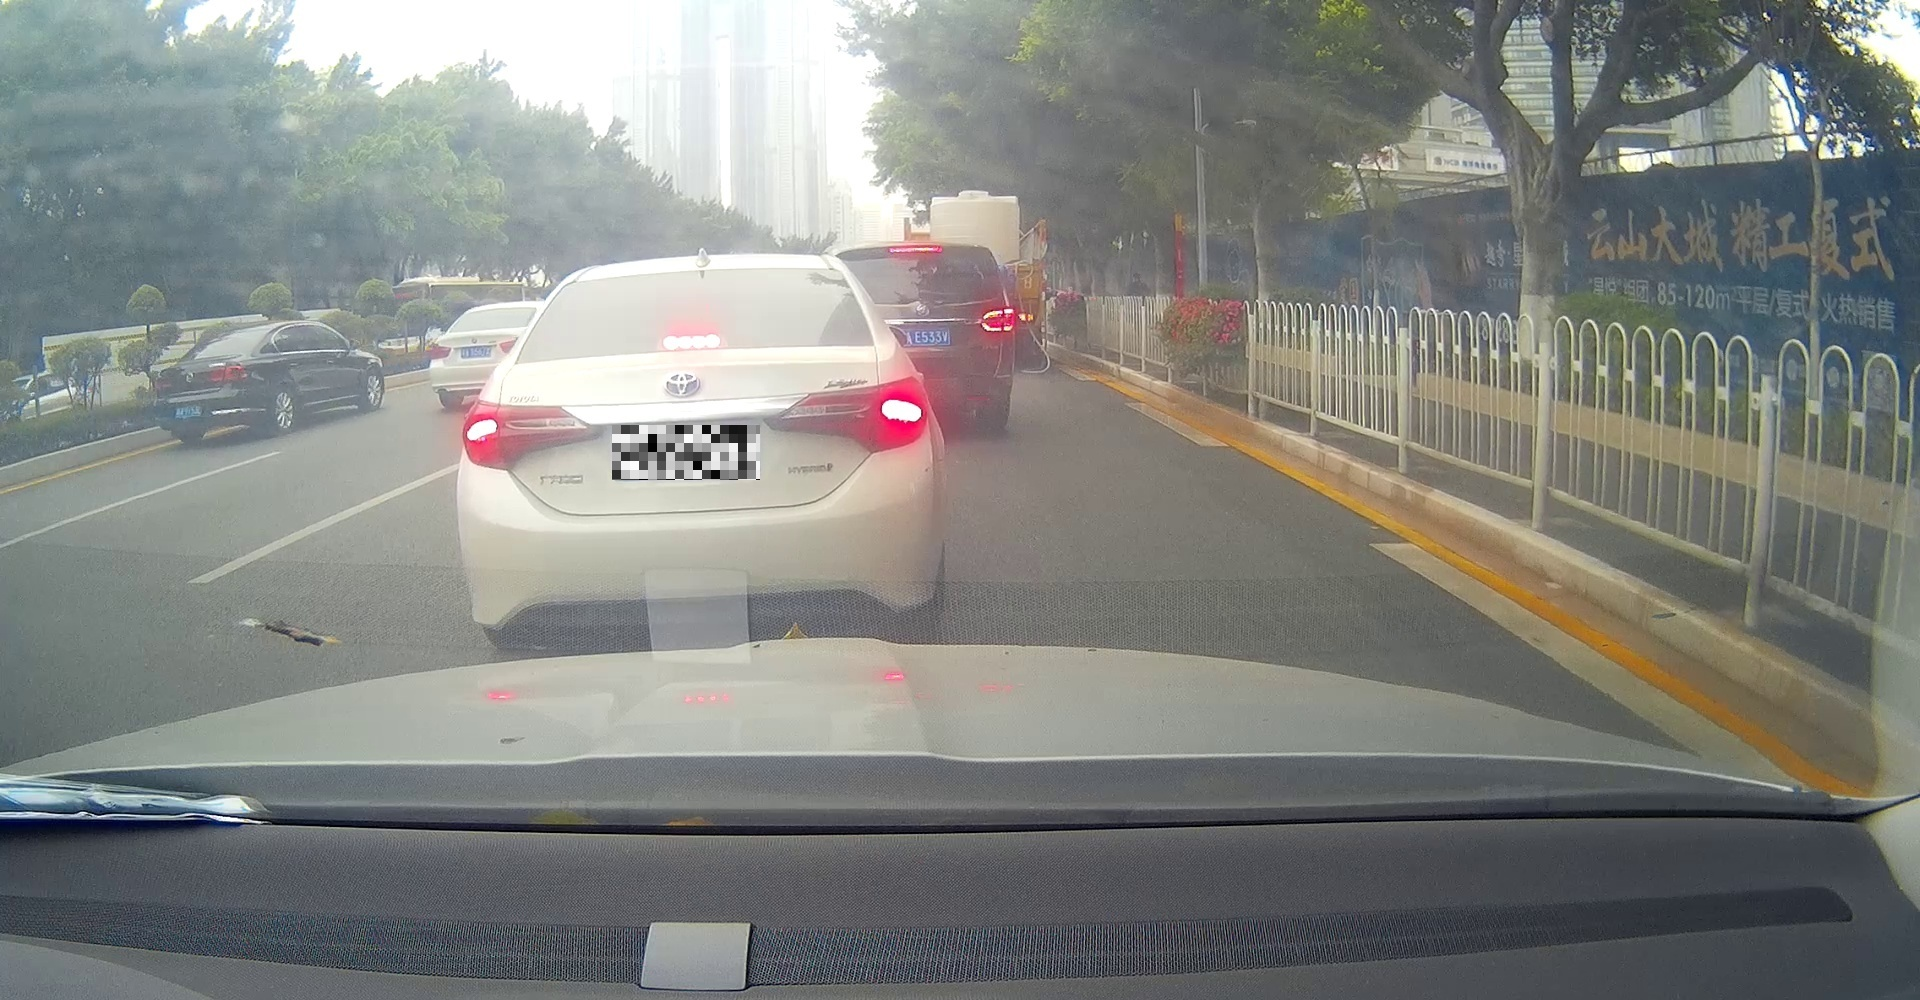L_light: (461, 398, 603, 470), (154, 378, 171, 393)
R_light: (764, 374, 930, 451), (211, 364, 248, 383)
T_light: (663, 334, 721, 352), (226, 334, 240, 338)
day-brake: (457, 253, 943, 648)
day-no: (150, 320, 270, 443)
plate_1: (612, 425, 759, 480)
